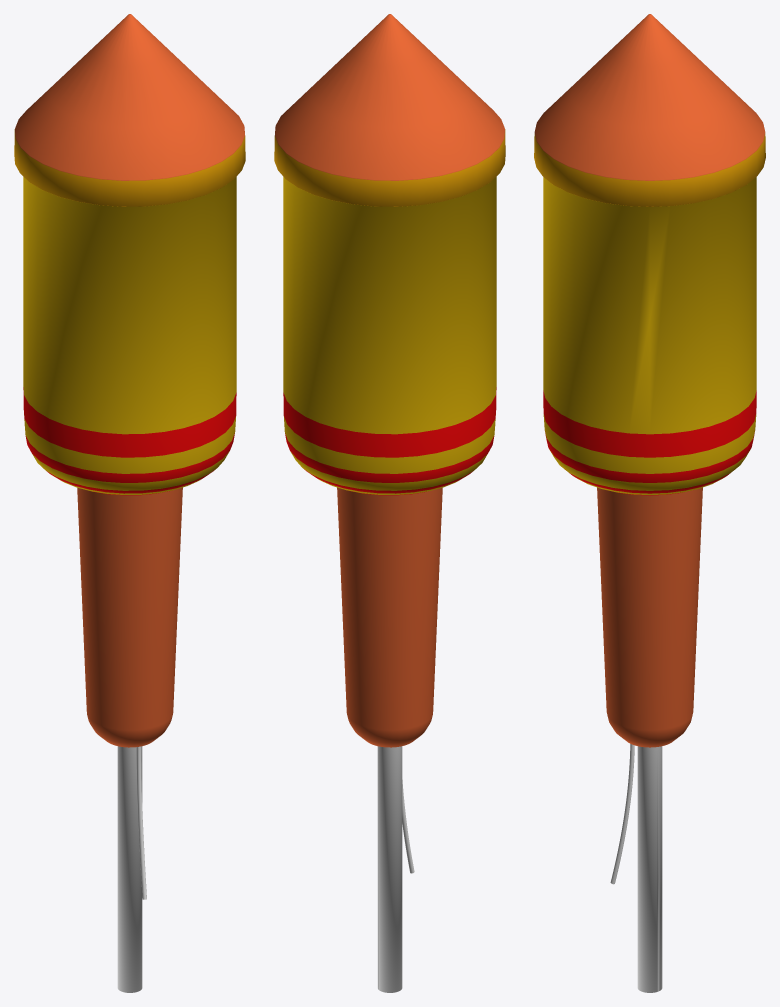
3 renders of one model, left to right at view 1: azimuth 30°, elevation 25°; view 2: azimuth 150°, elevation 25°; view 3: azimuth 270°, elevation 25°, orthographic.
Parts seen in each view (by area): view 1: Roket1.005; view 2: Roket1.005; view 3: Roket1.005.
Boxes of the visible parts, x1,y1,x2,y2 form: Roket1.005: (14,14,245,992); Roket1.005: (274,14,505,992); Roket1.005: (534,14,765,992).
Size of the model in its own units: 204 by 943 by 204.
